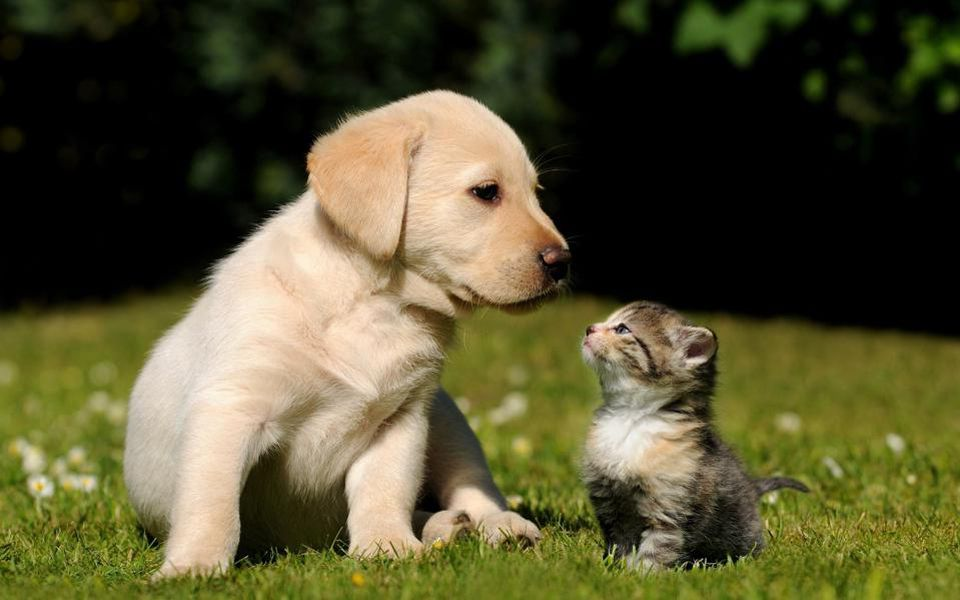cat: (580, 302, 813, 568)
dog: (125, 91, 571, 583)
